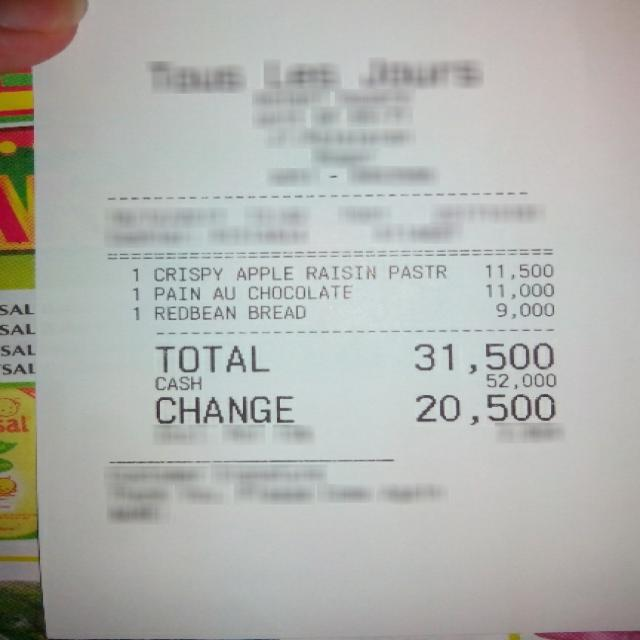kertas: (35, 0, 638, 638)
